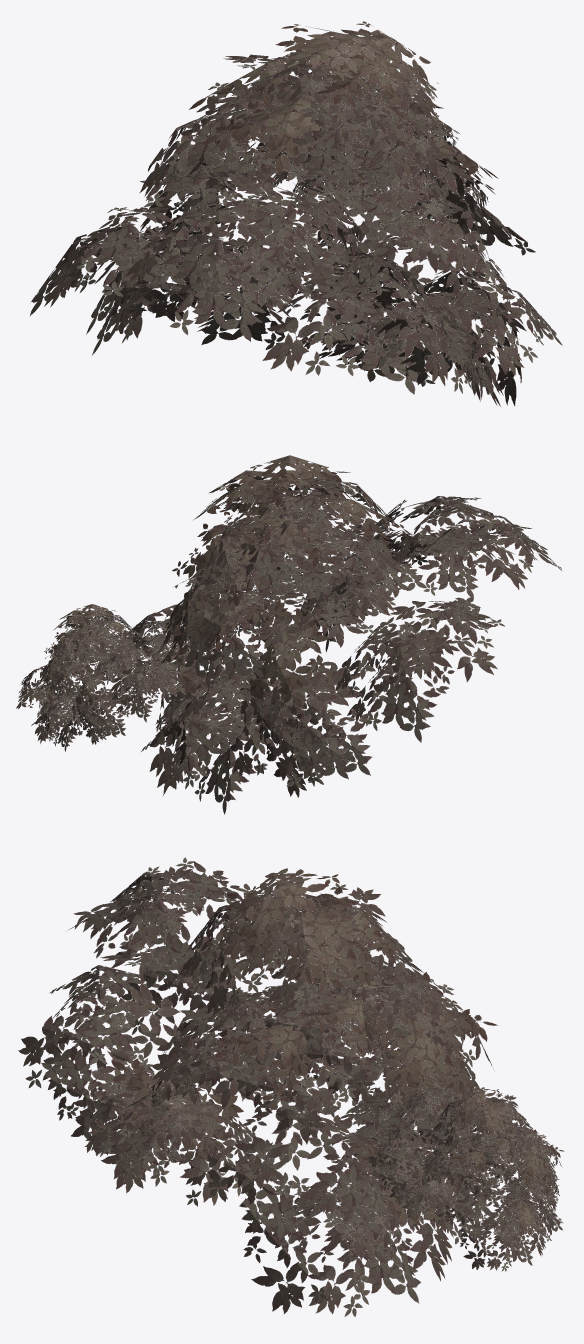
Rendered from Area06_24.fbx.
3 views of the same model, one above another, from view 1: azimuth 30°, elevation 25°; view 2: azimuth 150°, elevation 25°; view 3: azimuth 270°, elevation 25° (orthographic). The views are drawn at different scales.
Parts seen in each view (by area): view 1: Area06_24; view 2: Area06_24; view 3: Area06_24.
Boxes of the visible parts, x1,y1,x2,y2 form: Area06_24: (29,21,562,406); Area06_24: (16,455,561,814); Area06_24: (18,857,564,1316).
Size of the model in its own units: 610 by 457 by 604.
